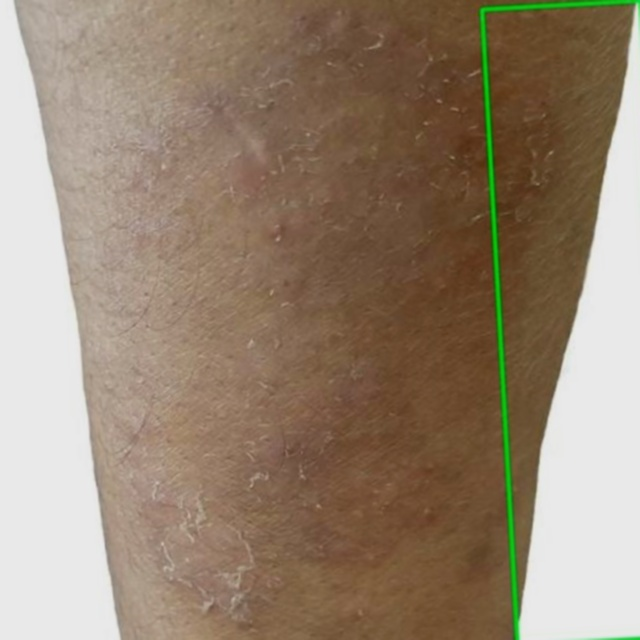Tinea Corporis: (480, 0, 639, 639)
